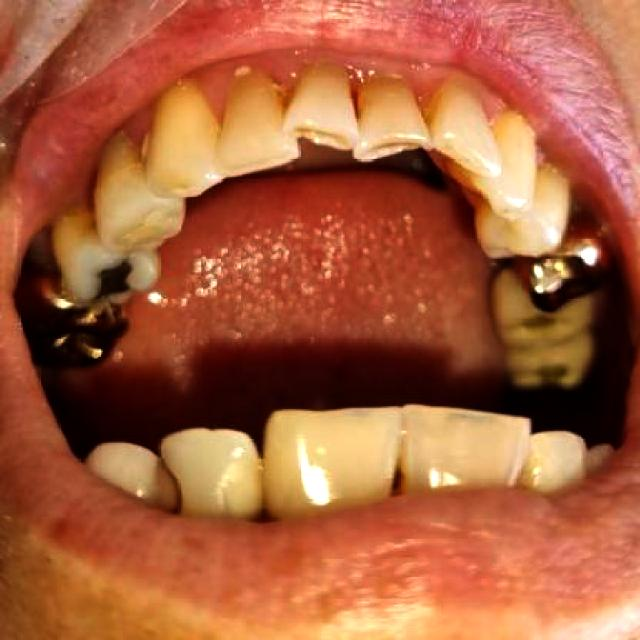Plaque: (134, 455, 197, 525)
